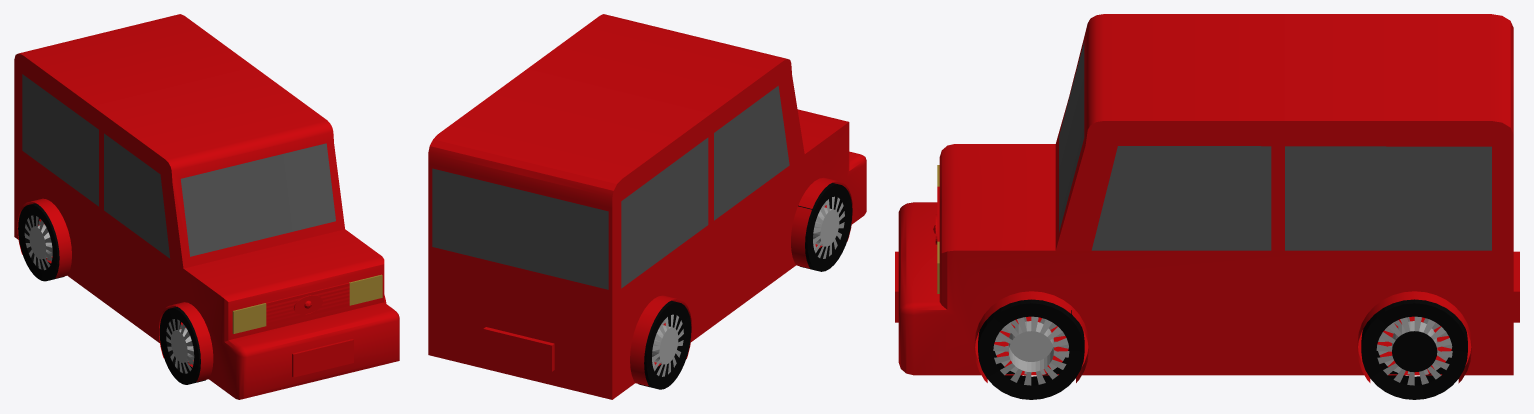
The model's file is NPCcar1_red.fbx.
3 renders of one model, left to right at view 1: azimuth 30°, elevation 25°; view 2: azimuth 150°, elevation 25°; view 3: azimuth 270°, elevation 25°, orthographic. The views are drawn at different scales.
Visible parts, largest first — view 1: car01_red; view 2: car01_red; view 3: car01_red.
Boxes of the visible parts, <box> form: car01_red: <box>14,14,399,399</box>; car01_red: <box>428,14,866,399</box>; car01_red: <box>895,14,1519,399</box>.
Bounding box in the file's own units: 54.09 × 54.89 × 115.
